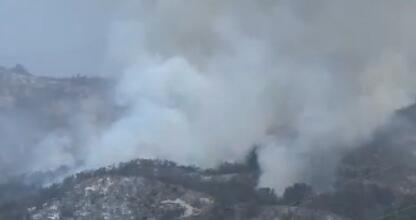yanwu: (3, 0, 416, 184)
